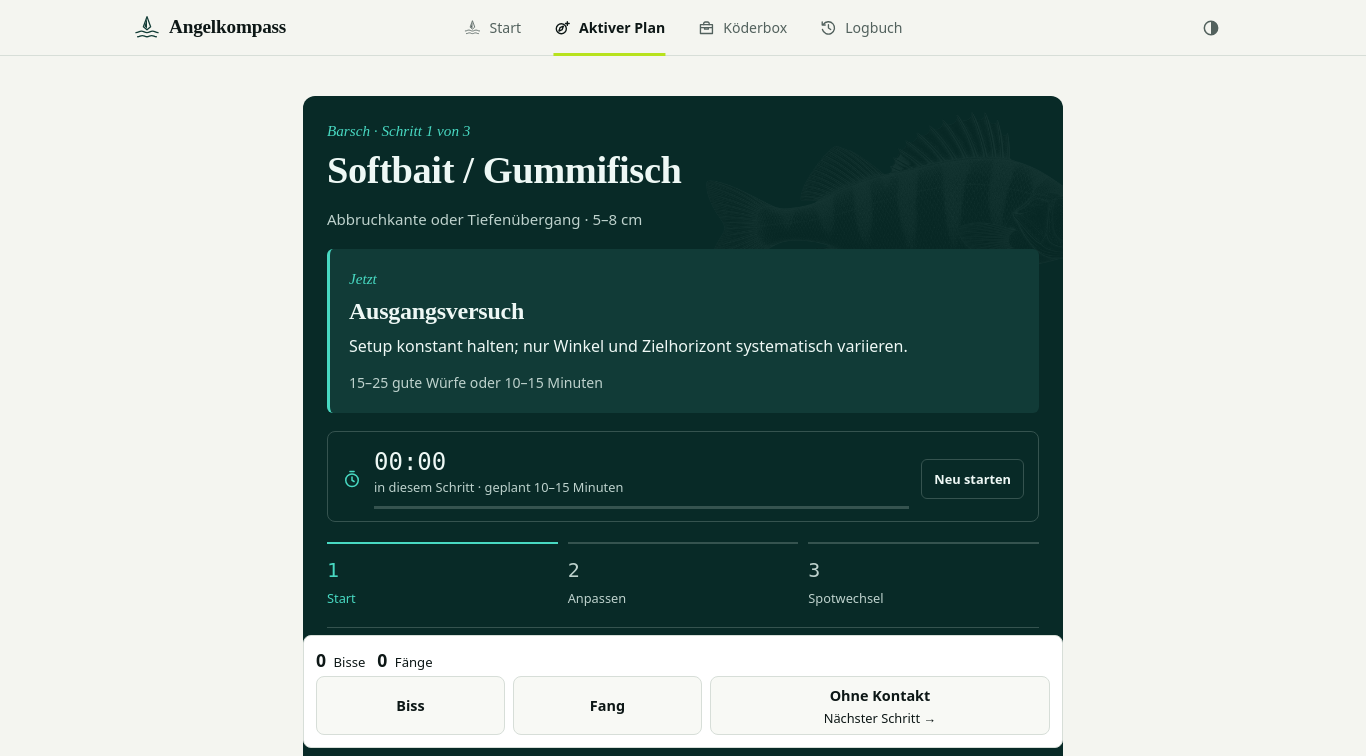
Test: Aktueller Arbeitsauftrag und gespeicherter Startplan › fokussiert nach einem Wechsel die neue Anweisung und erhält den ursprünglichen Snapshot
Expected: the heading "Softbait / Gummifisch" is shown, top-left (327, 149), bottom-right (682, 191)
What coordinates should you click on to do the following:
click the button with aria-label "Ohne Kontakt → nächster Schritt"
I would click on:
 (880, 705)
Its box is top-left (710, 676), bottom-right (1050, 735).
(page scrolled)
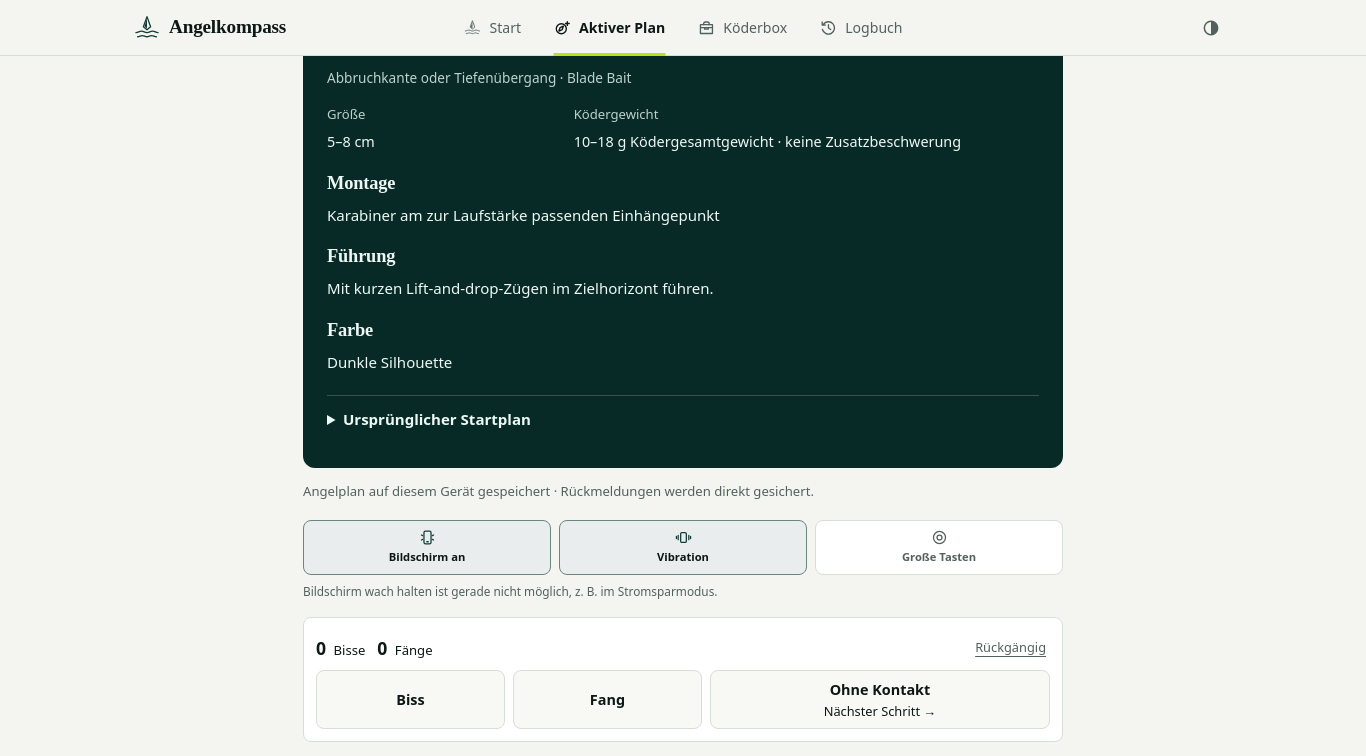
Result: the heading "Softbait / Gummifisch" is gone
